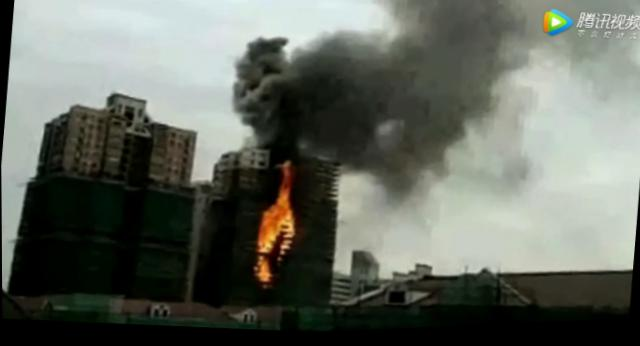fire: (255, 203, 278, 253), (275, 165, 290, 206), (274, 205, 293, 237), (250, 257, 268, 282)
